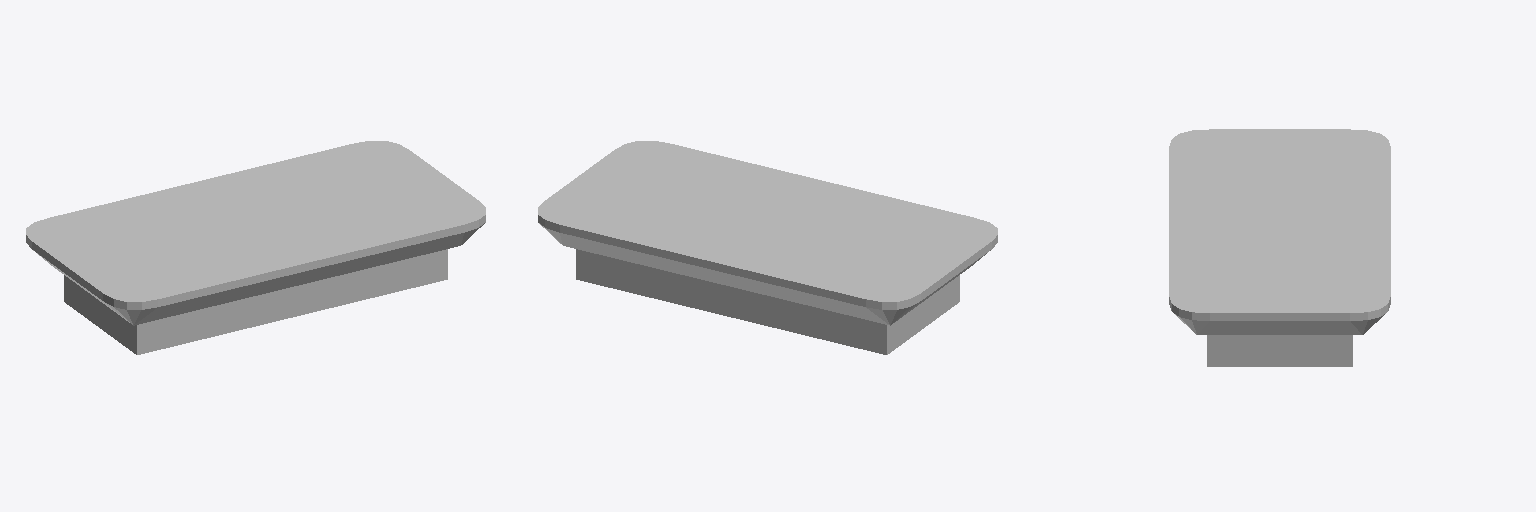
The model's file is coffee_holder.obj.
3 renders of one model, left to right at view 1: azimuth 30°, elevation 25°; view 2: azimuth 150°, elevation 25°; view 3: azimuth 270°, elevation 25°, orthographic.
Bounding box in the file's own units: 0.9945 × 0.1745 × 0.5067.